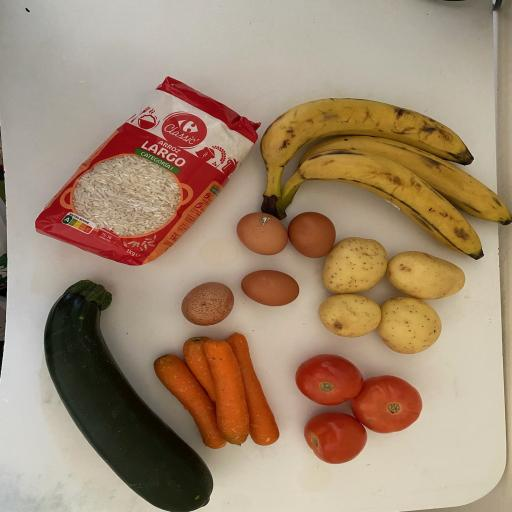banana: (257, 94, 476, 212), (272, 152, 488, 262), (274, 132, 512, 226)
carrot: (149, 346, 229, 453), (228, 330, 287, 448), (203, 337, 255, 450), (176, 334, 226, 408)
courgette: (40, 276, 217, 512)
egg: (239, 266, 304, 309), (179, 278, 235, 327), (236, 207, 288, 258), (286, 208, 336, 261)
potato: (372, 290, 444, 356), (384, 248, 468, 301), (321, 234, 389, 292), (318, 290, 384, 340)
tomato: (33, 68, 260, 266), (350, 373, 424, 437), (291, 350, 367, 408), (301, 408, 373, 466)
